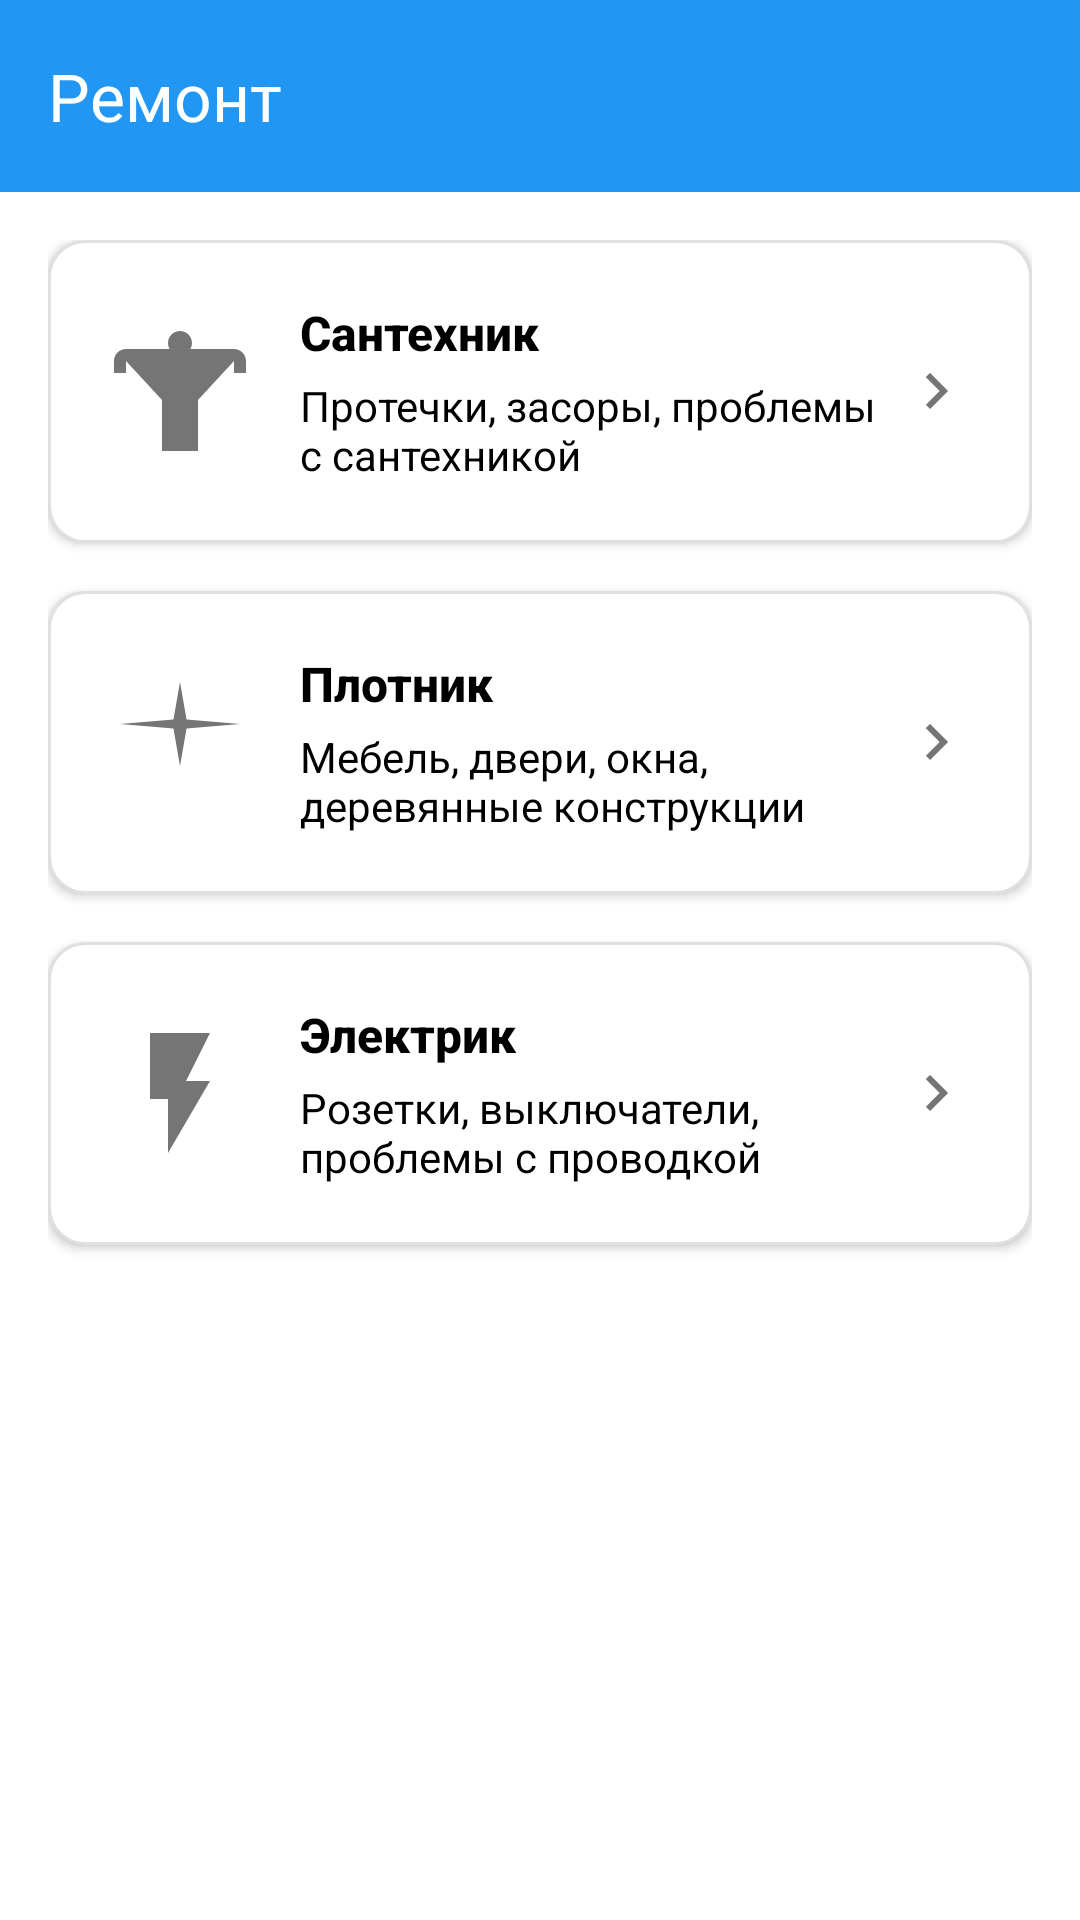

Where icons sit on this 1080*1920 app screen, as (x1, y1, x2, y2):
arrow right: (926, 373, 948, 409), (926, 724, 948, 760), (926, 1075, 948, 1111)
electrician: (150, 1033, 210, 1153)
